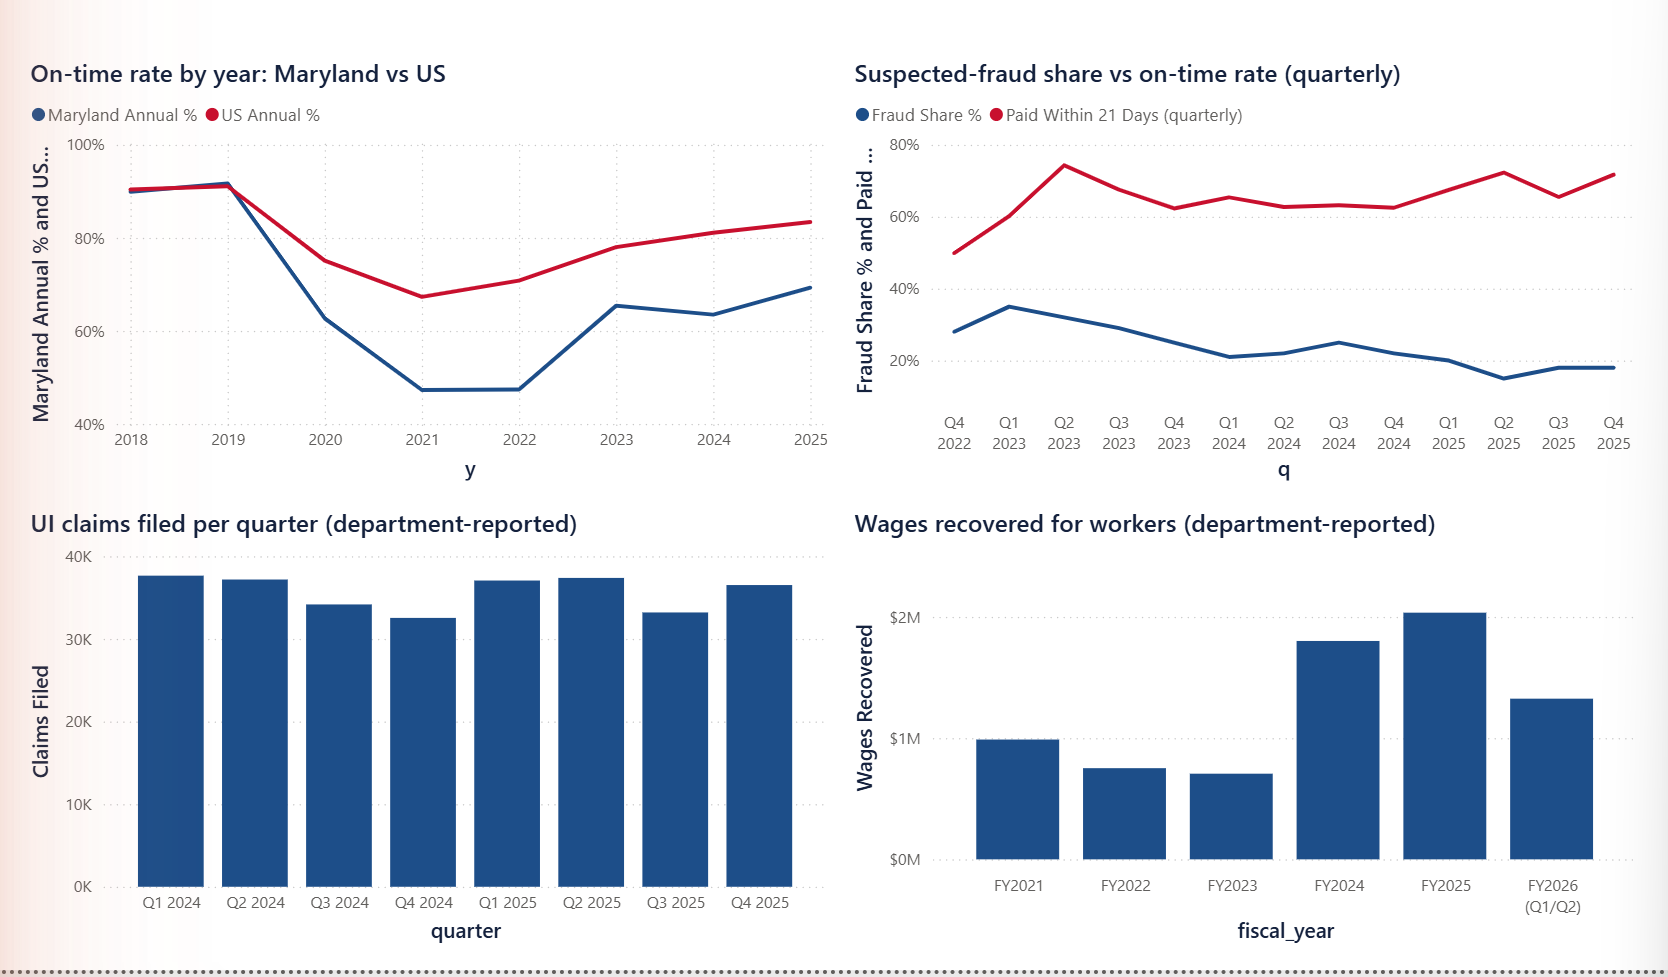

The page's visual inventory and layout, read from the dashboard file:
{"tool":"powerbi","page":{"name":"Inside MD Labor","canvas":[1280,720],"ordinal":2},"visuals":[{"type":"lineChart","title":"On-time rate by year: Maryland vs US","fields":{"Category":["AnnualTimeliness.y"],"Y":["AnnualTimeliness.Maryland Annual %","AnnualTimeliness.US Annual %"]},"box":[20,20,620,330],"z":0},{"type":"lineChart","title":"Suspected-fraud share vs on-time rate (quarterly)","fields":{"Category":["FraudVsTimeliness.q"],"Y":["FraudVsTimeliness.Fraud Share %","FraudVsTimeliness.Paid Within 21 Days (quarterly)"]},"box":[650,20,610,330],"z":0},{"type":"clusteredColumnChart","title":"UI claims filed per quarter (department-reported)","fields":{"Category":["DeptClaims.quarter"],"Y":["DeptClaims.Claims Filed"]},"box":[20,365,620,340],"z":0},{"type":"clusteredColumnChart","title":"Wages recovered for workers (department-reported)","fields":{"Category":["WagesRecovered.fiscal_year"],"Y":["WagesRecovered.Wages Recovered"]},"box":[650,365,610,340],"z":0}]}

Visuals, with their boxes on the page's 1280x720 design canvas (x1, y1, x2, y2). These are canvas units, not pixel positions in the 1668x977 screenshot, which may show the page scaled, cropped or inside an application window:
"On-time rate by year: Maryland vs US" lineChart: {"left": 20, "top": 20, "right": 640, "bottom": 350}
"Suspected-fraud share vs on-time rate (quarterly)" lineChart: {"left": 650, "top": 20, "right": 1260, "bottom": 350}
"UI claims filed per quarter (department-reported)" clusteredColumnChart: {"left": 20, "top": 365, "right": 640, "bottom": 705}
"Wages recovered for workers (department-reported)" clusteredColumnChart: {"left": 650, "top": 365, "right": 1260, "bottom": 705}
